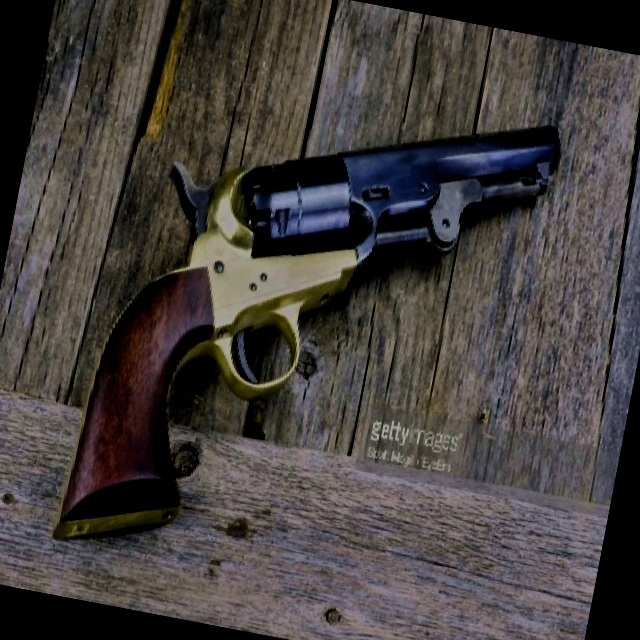gun: (52, 48, 566, 609)
